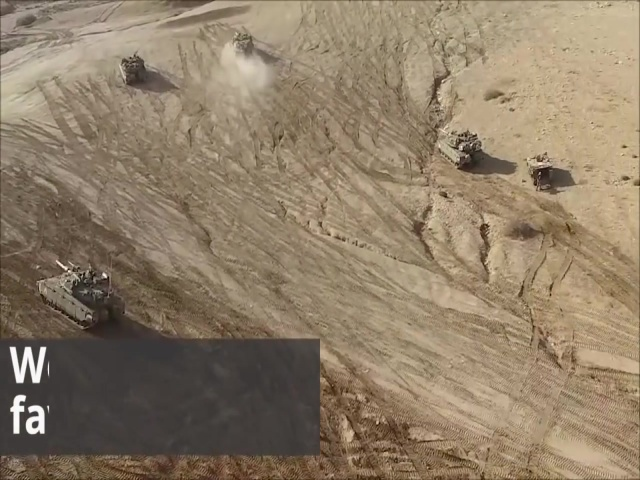vehicle: (38, 264, 127, 330), (435, 128, 484, 171), (525, 151, 557, 188), (118, 52, 150, 86), (231, 31, 255, 59)
